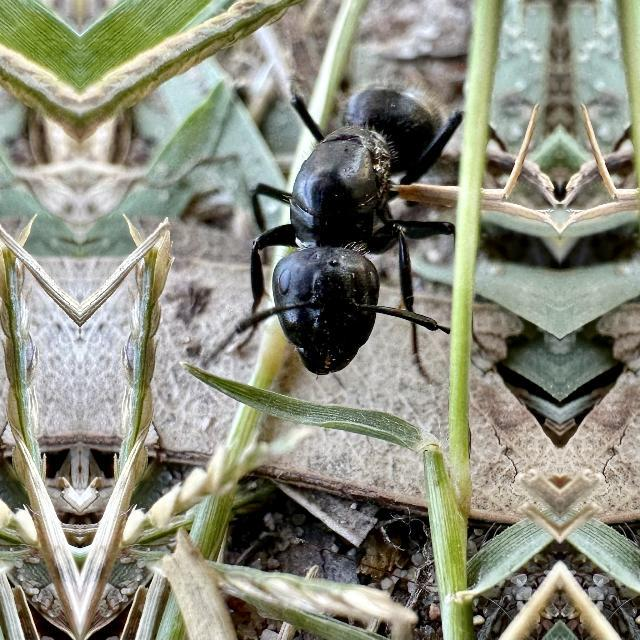Camponotus: (216, 23, 478, 419)
